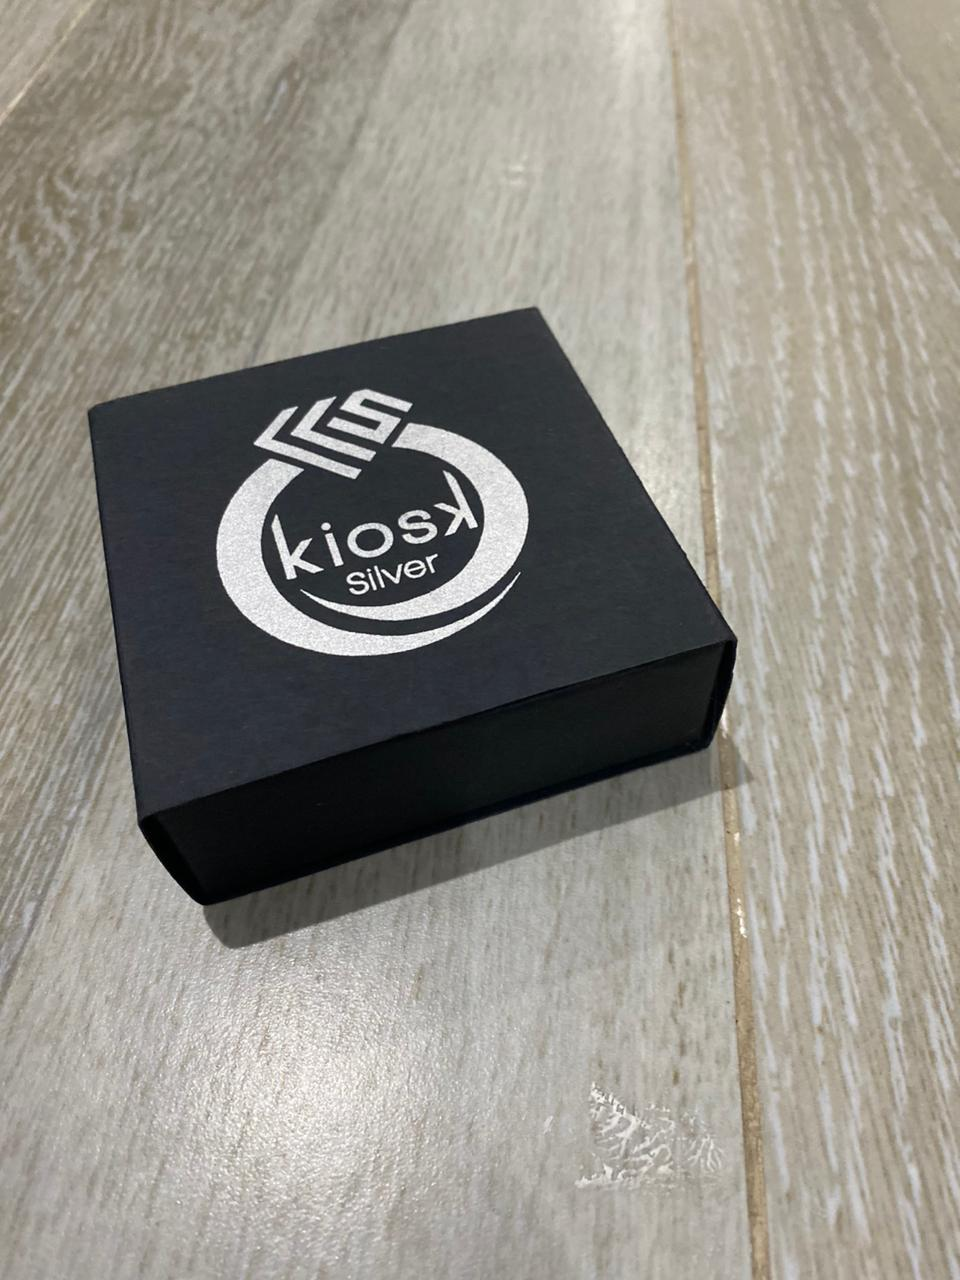Red Box: (80, 302, 749, 916)
